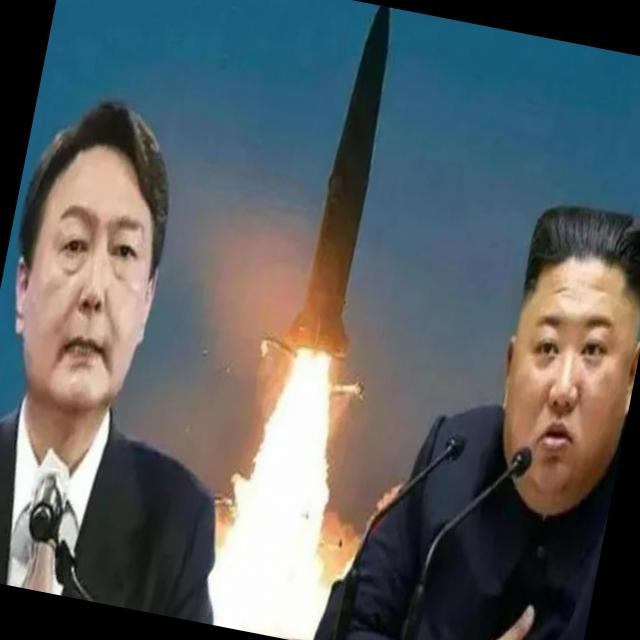rocket: (251, 9, 413, 532)
